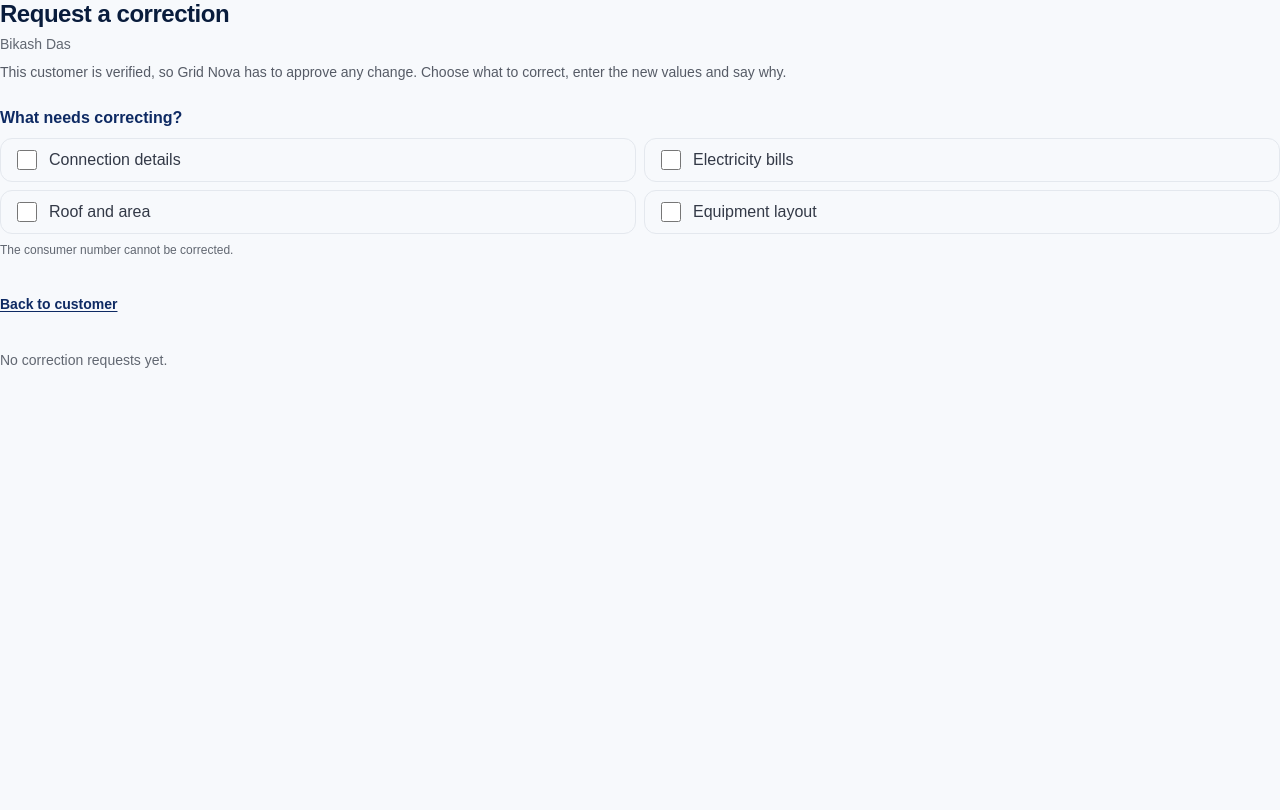
Test: Correction request page › translates the correction_pending error
Click the checkbox labelled "Connection details" at (27,160), box [17,150,37,170]
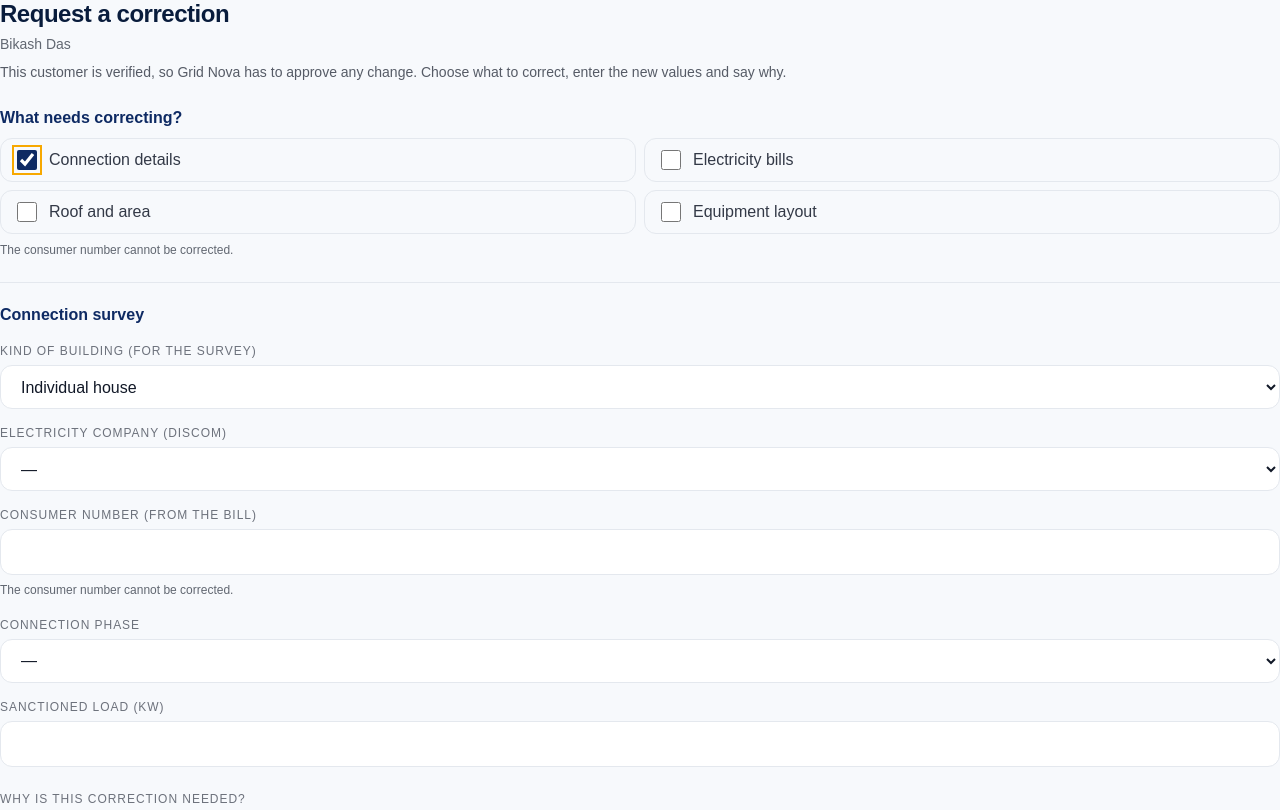
Type "9" into the field labelled "Sanctioned load (kW)" at (640,744), box [0,720,1279,766]
(page scrolled)
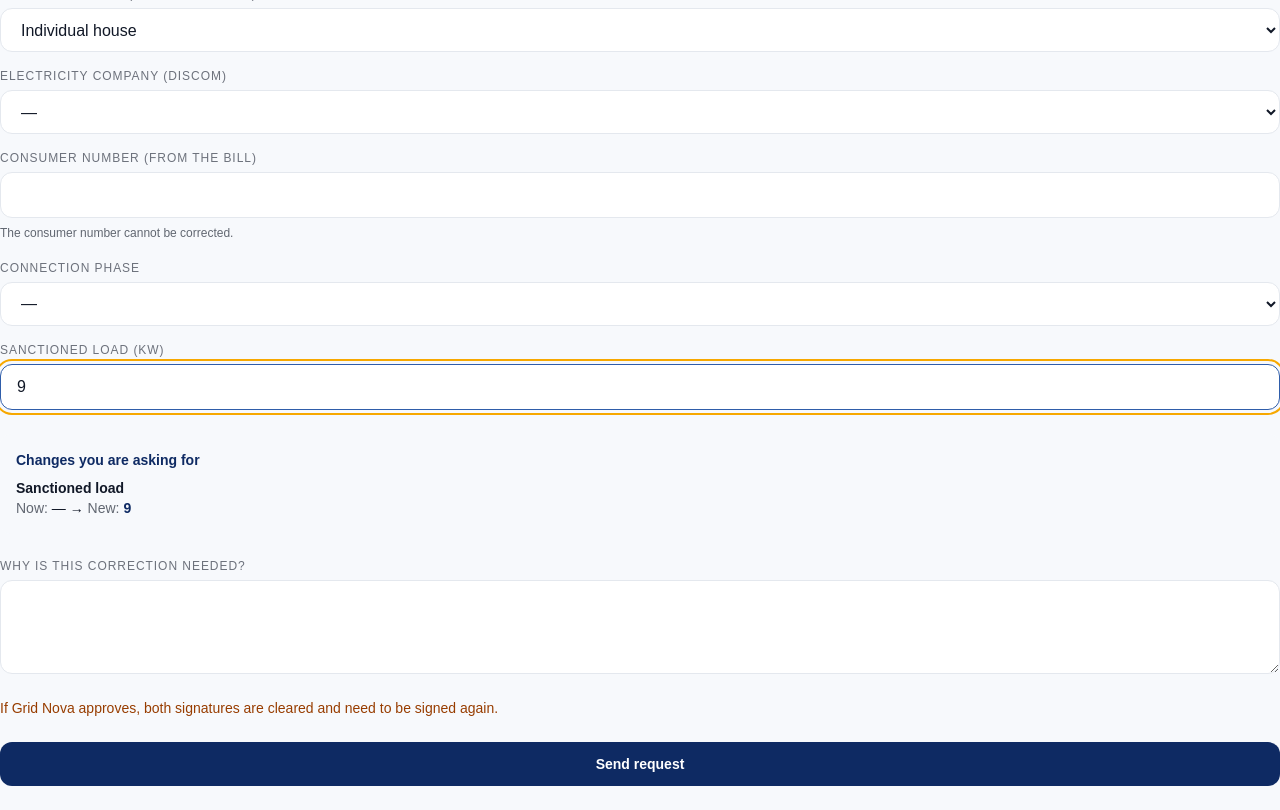
Type "because" into the text box labelled "Why is this correction needed?" at (640,626), box [0,580,1279,674]
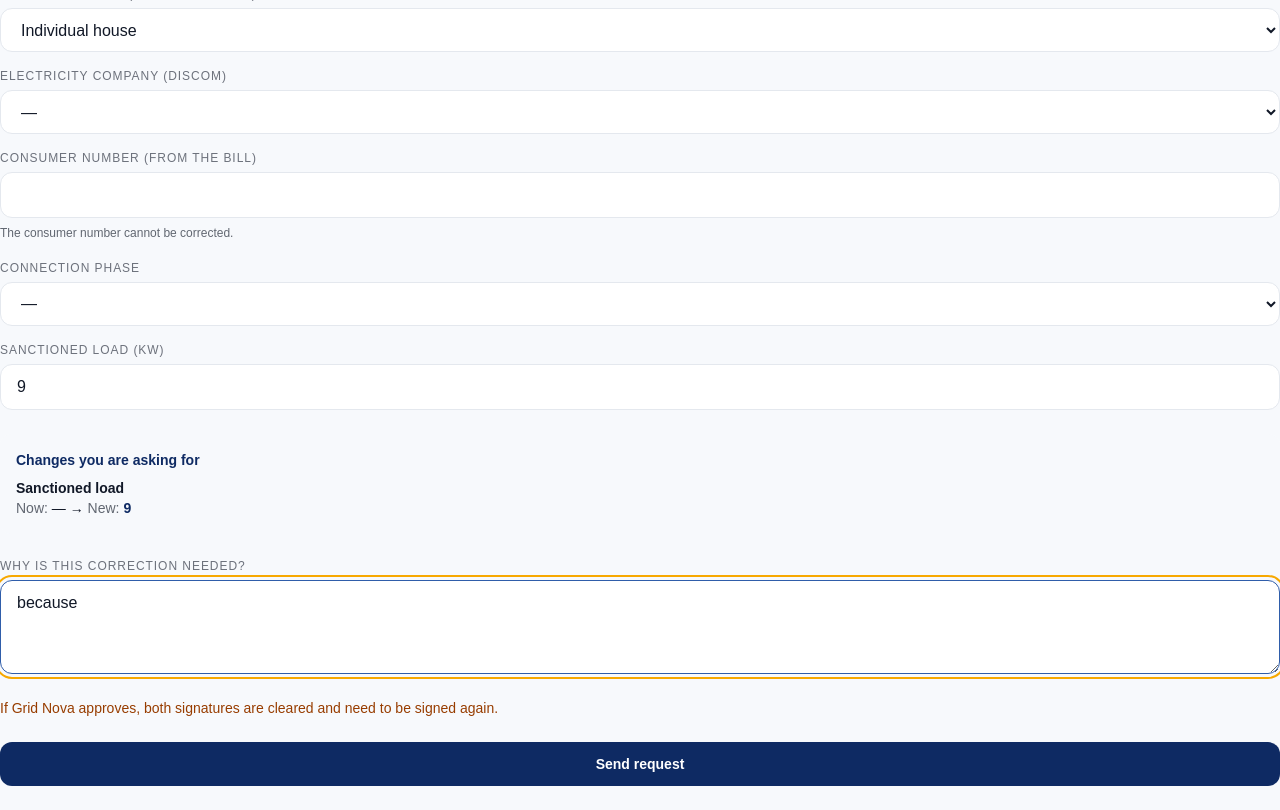
Click the button "Send request" at (640,764), box [0,742,1279,786]
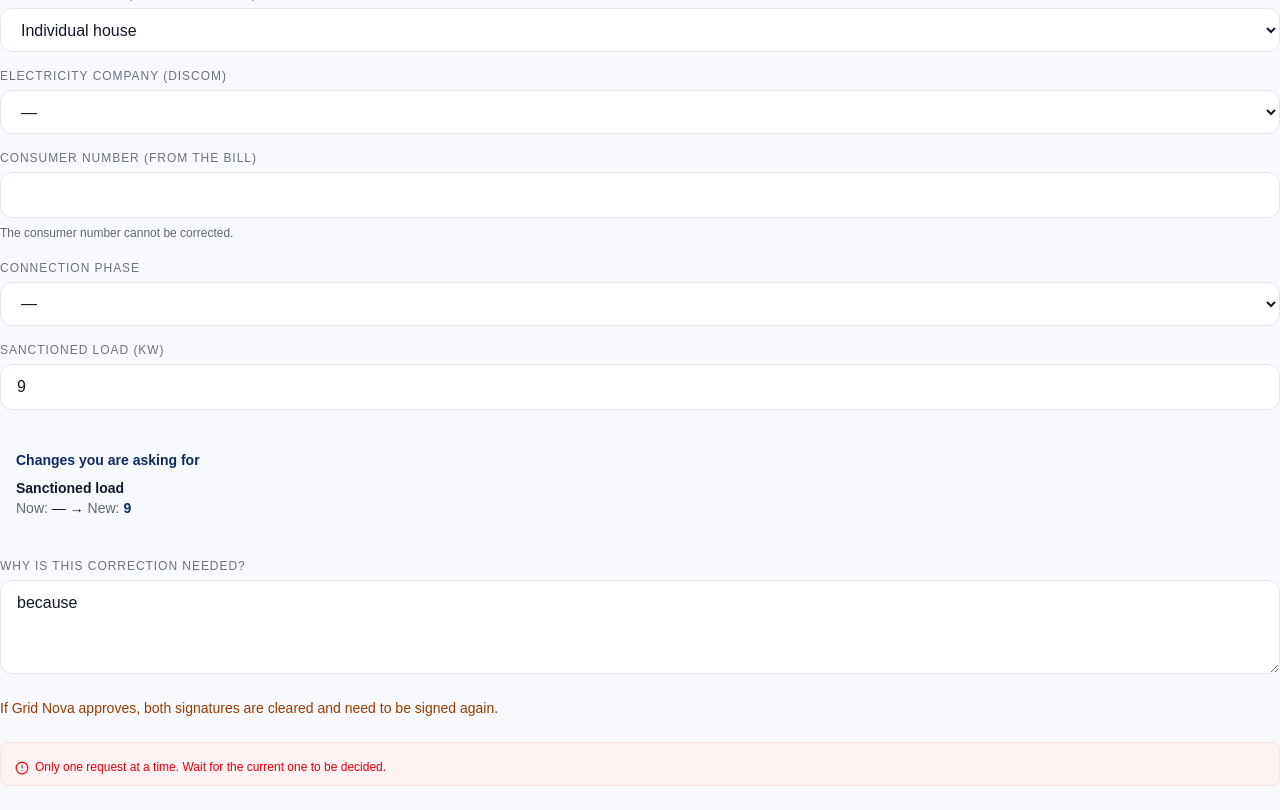
expect the message reads "Only one request at a time. Wait for the current one to be decided.": met, box [35,760,386,774]
